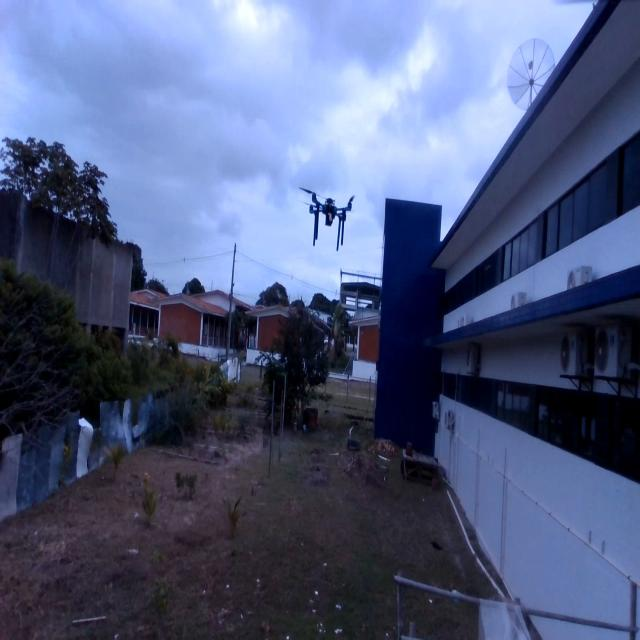-uav-: (295, 170, 365, 267)
